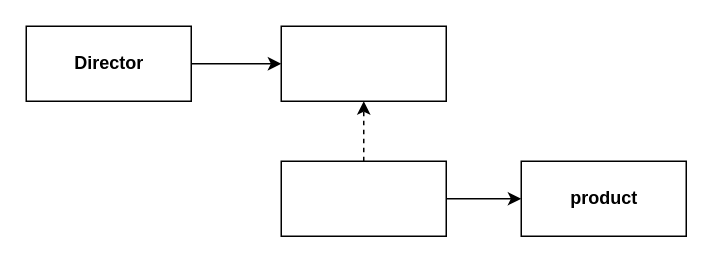
Image size: 713x263. Some labels were removed from this diagram. The centre of each missing label's shape, as x and y in pixels:
ConcreteBuilder: (x=363, y=198)
«interface» Builder: (x=363, y=63)
